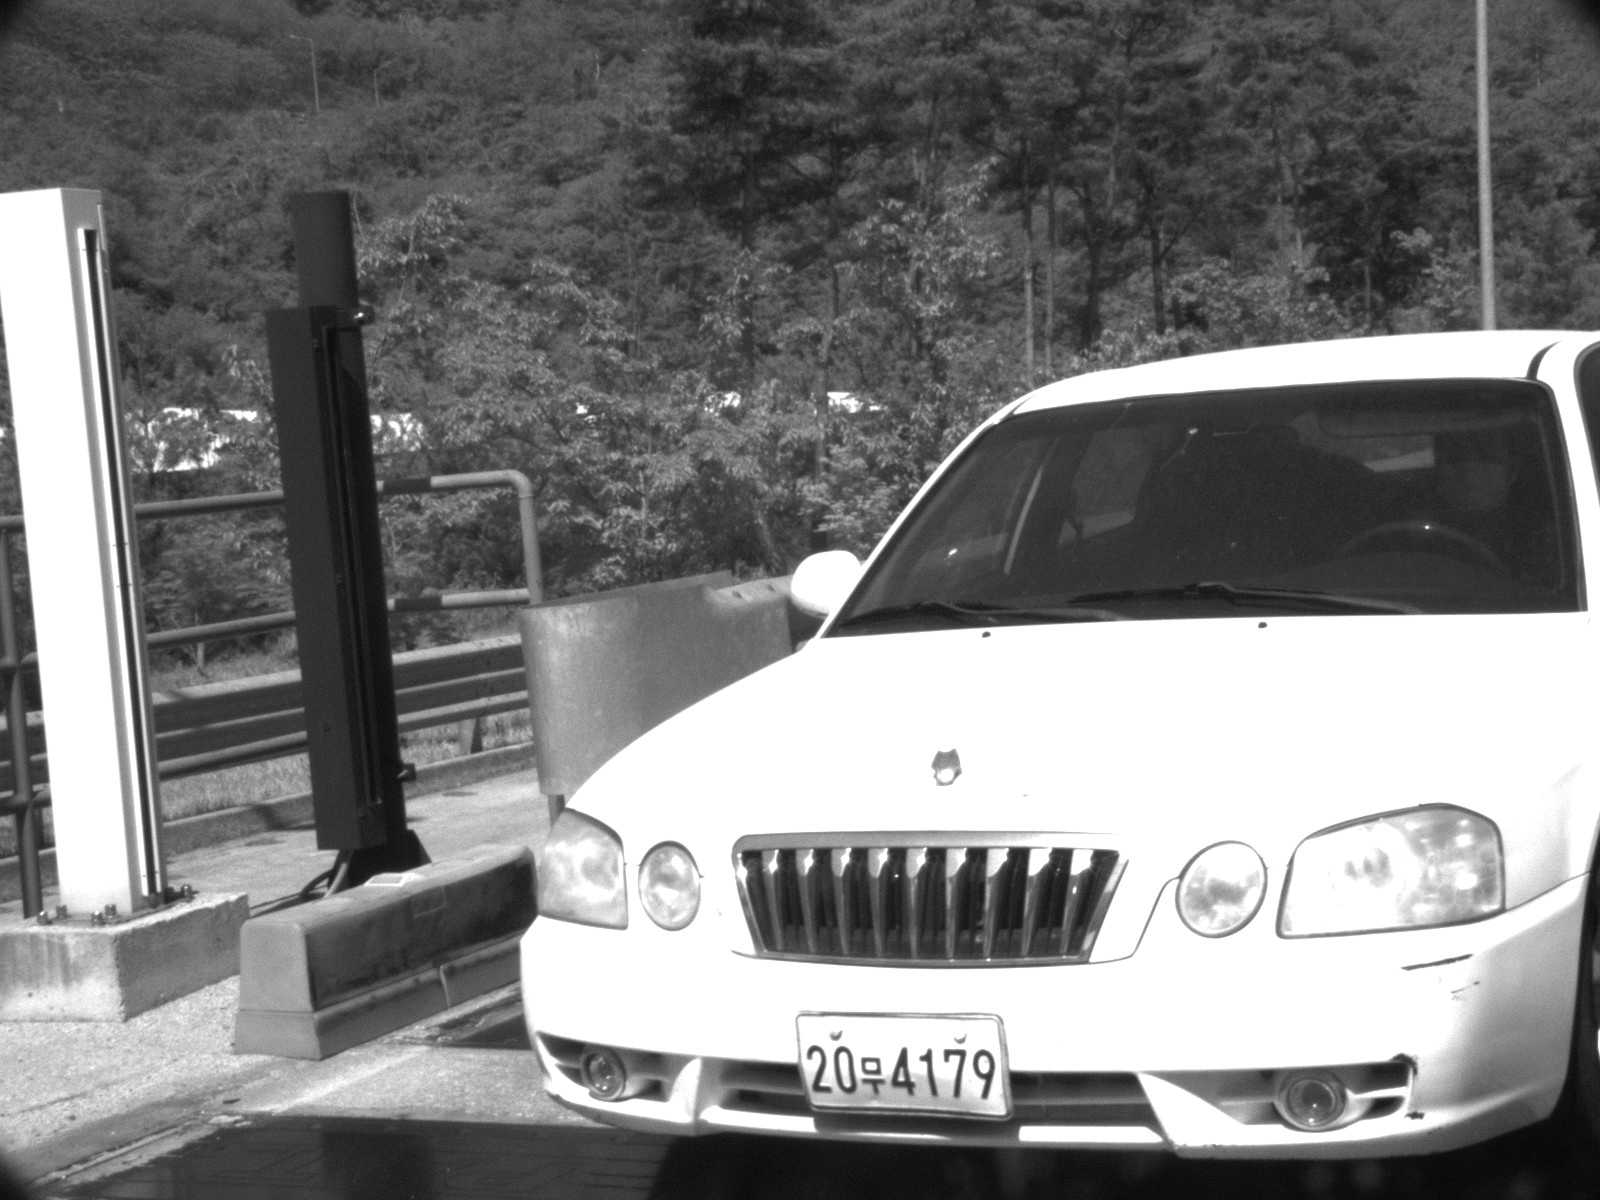car: (510, 327, 1600, 1185)
plate: (792, 1012, 1019, 1123)
